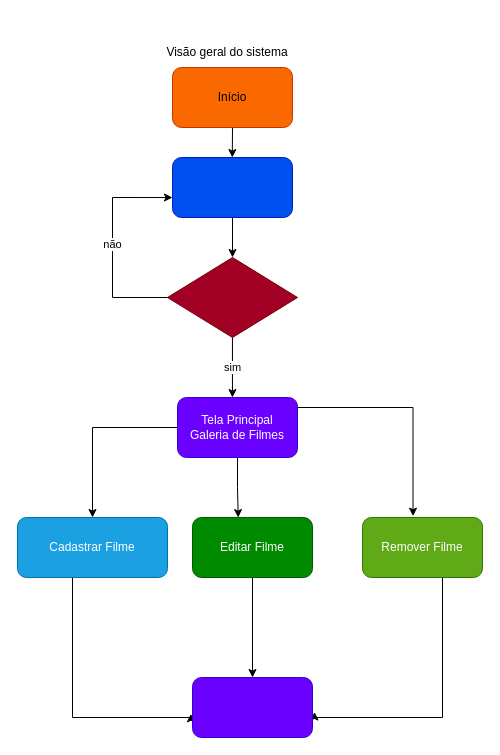
Image size: 500x755. Some labels were removed from this diagram. The shapes that lost their labels are listed below. From the top down, each one's centre as x and y in pixels, then its label:
point 232,187: Tela de Login informar e-mail e senha
point 232,297: Login válido?
point 252,707: Atualizar a Lista de Filmes Galeria de filmes
